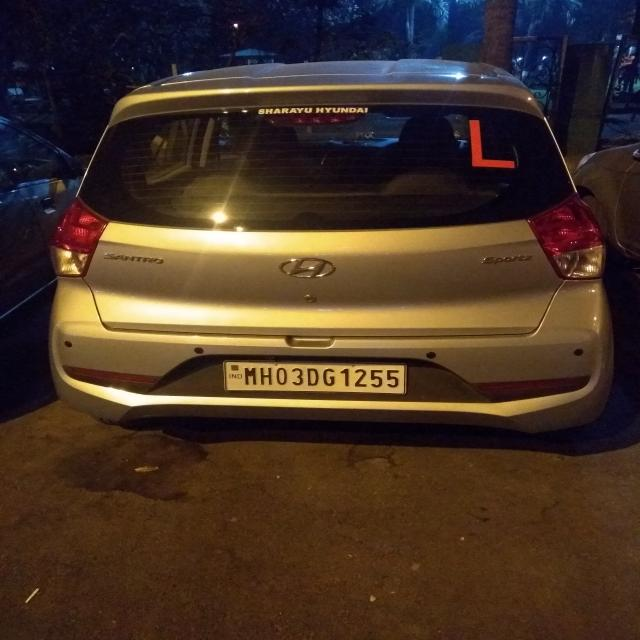Number-Plate: (224, 360, 406, 394)
